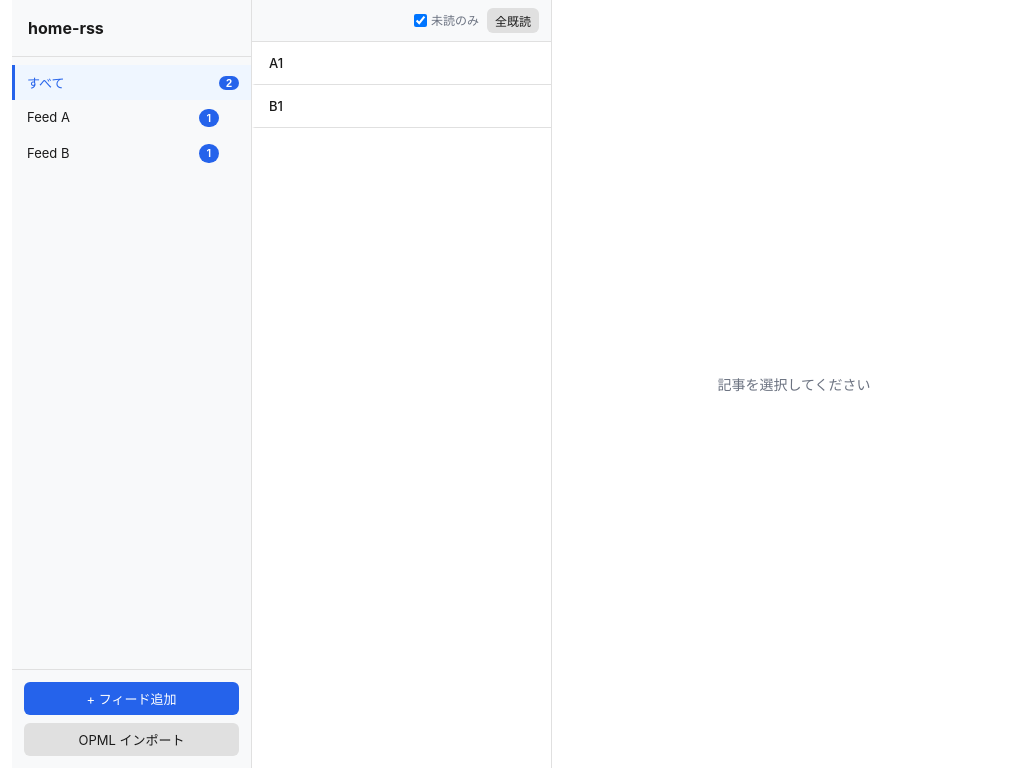
Test case: App › selecting a feed › shows the feed selected last when the answers come back in order
Click the text "Feed A" at (48, 117), box [27,109,70,125]
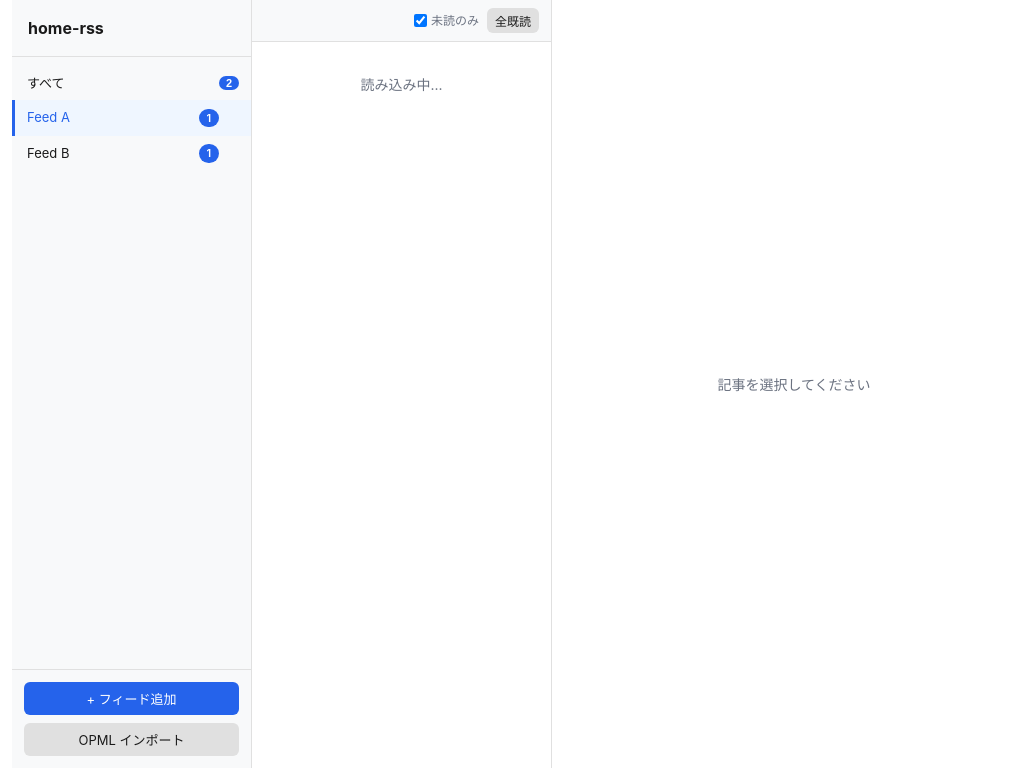
Click the text "Feed B" at (48, 152), box [27,144,70,160]
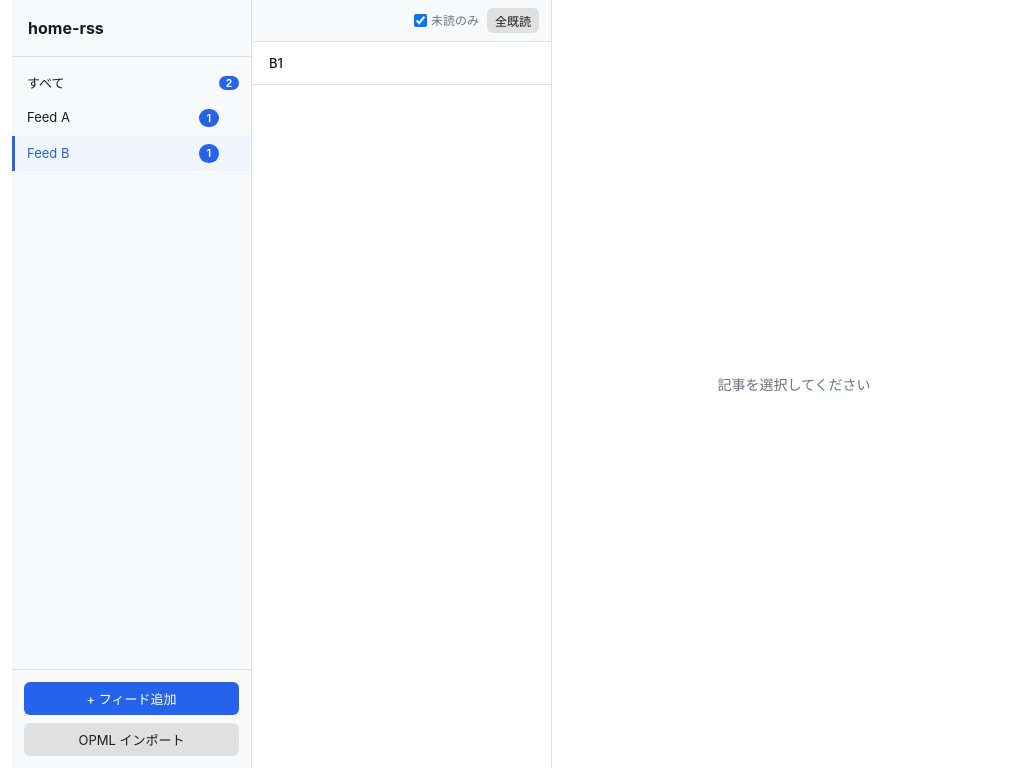
expect the text "読み込み中..." is gone: met
